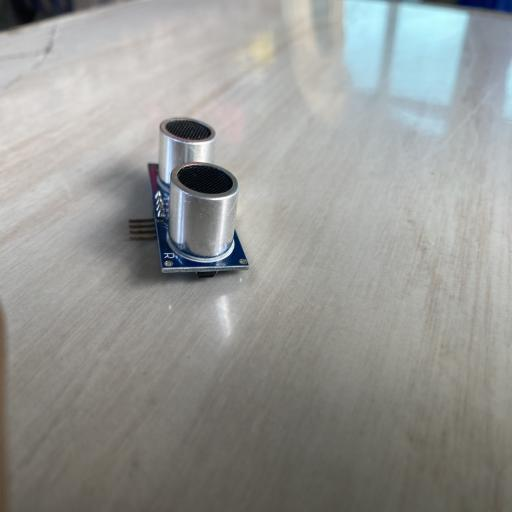Ultrasonic Sensor: (129, 117, 250, 278)
